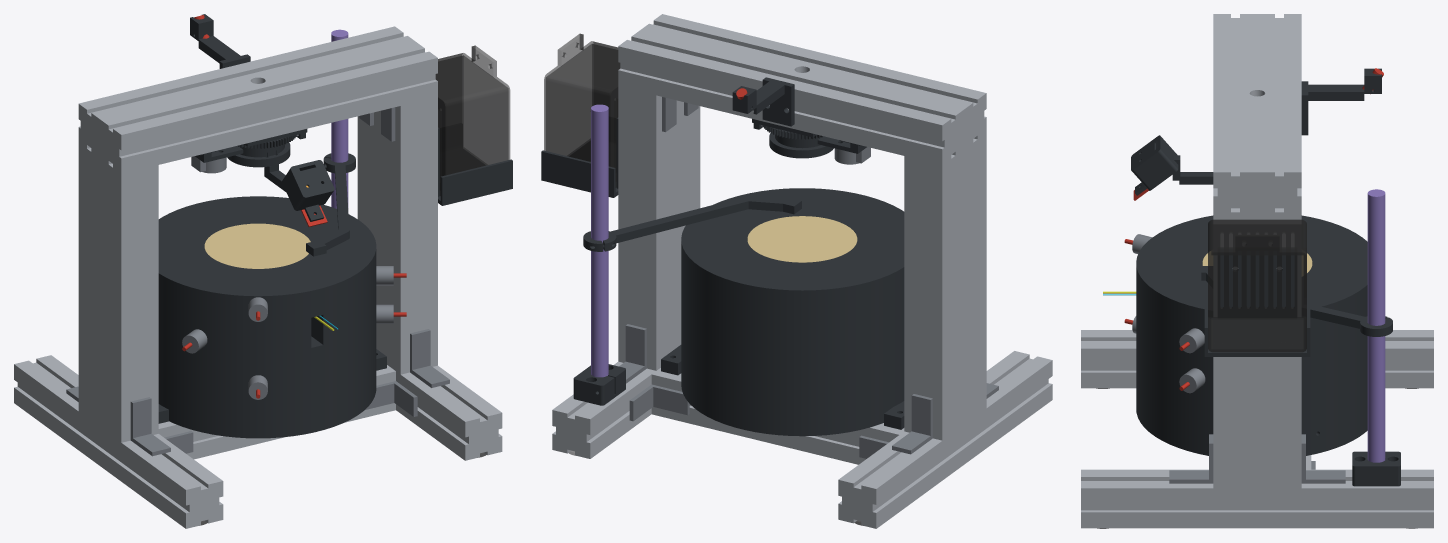
The model's file is E7_V07_bez_zatizeni.glb.
3 renders of one model, left to right at view 1: azimuth 30°, elevation 25°; view 2: azimuth 150°, elevation 25°; view 3: azimuth 270°, elevation 25°, orthographic. The views are drawn at different scales.
Visible parts, largest first — view 1: cell PETG D220x146 flat top, variant U, T04 top beam 40x80 x340, hole D14, T01 column 40x80 slot 8 x276 L, T01 column 40x80 slot 8 x276 R, T02 base rail 40x40 x320 L, P06 box with RPi Zero 2 W (on the column), T02 base rail 40x40 x320 R, unsaturated sand D100x100, P18 RPi box bracket (print), T03 base cross bar 40x80 x260, P03 target arm (print), P14 camera arm + head (print) (+7 smaller); view 2: cell PETG D220x146 flat top, variant U, T04 top beam 40x80 x340, hole D14, T01 column 40x80 slot 8 x276 L, T01 column 40x80 slot 8 x276 R, T02 base rail 40x40 x320 L, P06 box with RPi Zero 2 W (on the column), Invar 36 post D16 x283, T02 base rail 40x40 x320 R, unsaturated sand D100x100, T03 base cross bar 40x80 x260, P03 target arm (print), P05 laser holder (print) (+7 smaller); view 3: cell PETG D220x146 flat top, variant U, T02 base rail 40x40 x320 R, T04 top beam 40x80 x340, hole D14, T01 column 40x80 slot 8 x276 R, P06 box with RPi Zero 2 W (on the column), P18 RPi box bracket (print), T02 base rail 40x40 x320 L, Invar 36 post D16 x283, P14 camera arm + head (print), P05 laser holder (print), P04 post foot (print), P03 target arm (print) (+5 smaller).
Boxes of the visible parts, x1,y1,x2,y2 form: cell PETG D220x146 flat top, variant U: (158, 196, 376, 438); T04 top beam 40x80 x340, hole D14: (78, 26, 437, 173); T01 column 40x80 slot 8 x276 L: (78, 143, 158, 442); T01 column 40x80 slot 8 x276 R: (357, 97, 437, 374); T02 base rail 40x40 x320 L: (14, 355, 223, 528); P06 box with RPi Zero 2 W (on the column): (435, 45, 510, 195); T02 base rail 40x40 x320 R: (396, 365, 502, 460); unsaturated sand D100x100: (204, 223, 310, 268); P18 RPi box bracket (print): (438, 127, 512, 205); T03 base cross bar 40x80 x260: (158, 365, 395, 459); P03 target arm (print): (306, 153, 355, 256); P14 camera arm + head (print): (227, 151, 332, 221); cell PETG D220x146 flat top, variant U: (681, 188, 904, 436); T04 top beam 40x80 x340, hole D14: (618, 14, 986, 165); T01 column 40x80 slot 8 x276 L: (904, 133, 986, 440); T01 column 40x80 slot 8 x276 R: (618, 86, 700, 370); T02 base rail 40x40 x320 L: (838, 351, 1052, 528); P06 box with RPi Zero 2 W (on the column): (544, 33, 620, 187); Invar 36 post D16 x283: (591, 104, 608, 377); T02 base rail 40x40 x320 R: (552, 361, 655, 458); unsaturated sand D100x100: (747, 216, 857, 262); T03 base cross bar 40x80 x260: (651, 368, 904, 464); P03 target arm (print): (583, 196, 801, 251); P05 laser holder (print): (732, 77, 794, 126); cell PETG D220x146 flat top, variant U: (1136, 215, 1367, 455); T02 base rail 40x40 x320 R: (1081, 469, 1433, 528); T04 top beam 40x80 x340, hole D14: (1213, 14, 1301, 212); T01 column 40x80 slot 8 x276 R: (1213, 208, 1301, 488); P06 box with RPi Zero 2 W (on the column): (1208, 219, 1306, 352); P18 RPi box bracket (print): (1204, 248, 1310, 356); T02 base rail 40x40 x320 L: (1081, 330, 1433, 388); Invar 36 post D16 x283: (1367, 189, 1385, 462); P14 camera arm + head (print): (1133, 137, 1213, 195); P05 laser holder (print): (1301, 68, 1381, 135); P04 post foot (print): (1352, 451, 1400, 486); P03 target arm (print): (1201, 266, 1392, 336).
Bounding box in the file's own units: 416 × 383 × 320.
